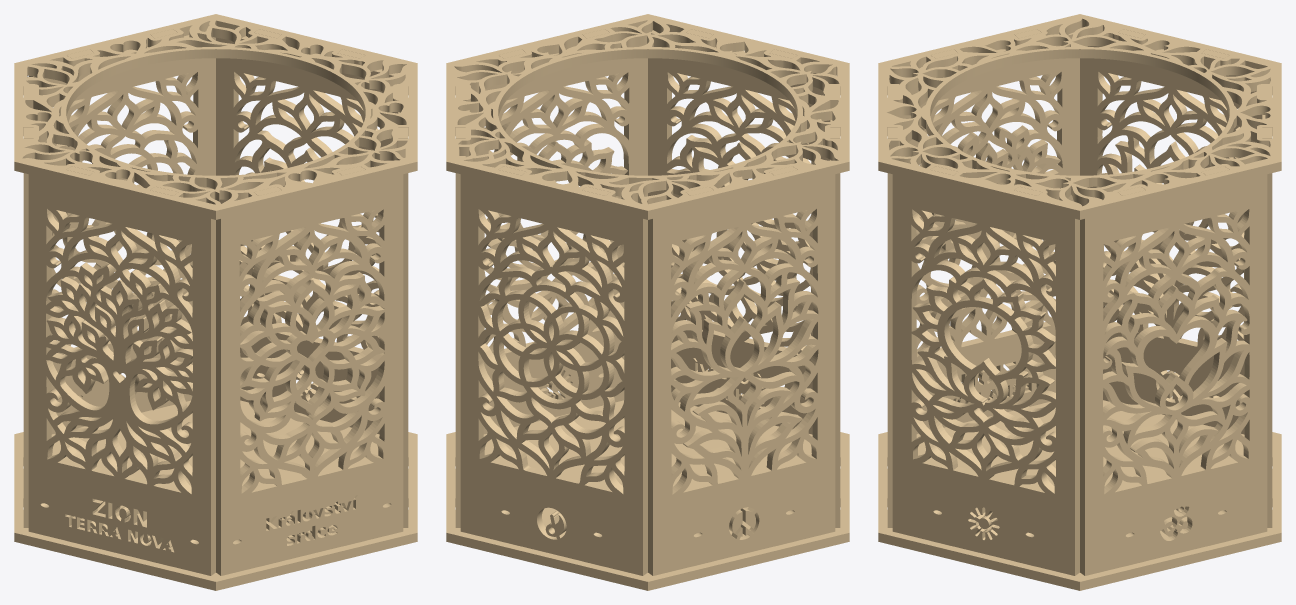
The model's file is lampion-kralovstvi-srdce.glb.
3 views of the same model, side by side, from view 1: azimuth 30°, elevation 25°; view 2: azimuth 150°, elevation 25°; view 3: azimuth 270°, elevation 25° (orthographic).
Parts seen in each view (by area): view 1: Strom života · ZION / TERRA NOVA, Srdcová mandala · Království srdce, Vršek, Srdce v lotosu · ÓM, Květ života · Jin-jang, Dno, Hiranjagarbha · Slunce, Lotos · Peace; view 2: Lotos · Peace, Květ života · Jin-jang, Vršek, Srdcová mandala · Království srdce, Hiranjagarbha · Slunce, Dno, Srdce v lotosu · ÓM, Strom života · ZION / TERRA NOVA; view 3: Srdce v lotosu · ÓM, Hiranjagarbha · Slunce, Vršek, Strom života · ZION / TERRA NOVA, Lotos · Peace, Dno, Květ života · Jin-jang, Srdcová mandala · Království srdce.
Boxes of the visible parts, x1=… form: Strom života · ZION / TERRA NOVA: x1=28, y1=166, x2=215, y2=575; Srdcová mandala · Království srdce: x1=216, y1=166, x2=403, y2=575; Vršek: x1=14, y1=14, x2=417, y2=219; Srdce v lotosu · ÓM: x1=216, y1=29, x2=399, y2=434; Květ života · Jin-jang: x1=28, y1=29, x2=215, y2=434; Dno: x1=14, y1=400, x2=417, y2=590; Hiranjagarbha · Slunce: x1=398, y1=86, x2=408, y2=527; Lotos · Peace: x1=23, y1=77, x2=33, y2=527; Lotos · Peace: x1=648, y1=166, x2=835, y2=575; Květ života · Jin-jang: x1=460, y1=166, x2=647, y2=575; Vršek: x1=446, y1=14, x2=849, y2=219; Srdcová mandala · Království srdce: x1=648, y1=29, x2=830, y2=434; Hiranjagarbha · Slunce: x1=465, y1=29, x2=647, y2=434; Dno: x1=446, y1=400, x2=849, y2=590; Srdce v lotosu · ÓM: x1=455, y1=86, x2=465, y2=527; Strom života · ZION / TERRA NOVA: x1=830, y1=86, x2=840, y2=527; Srdce v lotosu · ÓM: x1=1080, y1=166, x2=1267, y2=575; Hiranjagarbha · Slunce: x1=892, y1=166, x2=1079, y2=575; Vršek: x1=878, y1=14, x2=1281, y2=219; Strom života · ZION / TERRA NOVA: x1=898, y1=29, x2=1079, y2=433; Lotos · Peace: x1=1080, y1=29, x2=1262, y2=434; Dno: x1=878, y1=400, x2=1281, y2=590; Květ života · Jin-jang: x1=1262, y1=86, x2=1272, y2=527; Srdcová mandala · Království srdce: x1=887, y1=86, x2=897, y2=527.
Bounding box in the file's own units: 0.14 × 0.126 × 0.1212.
